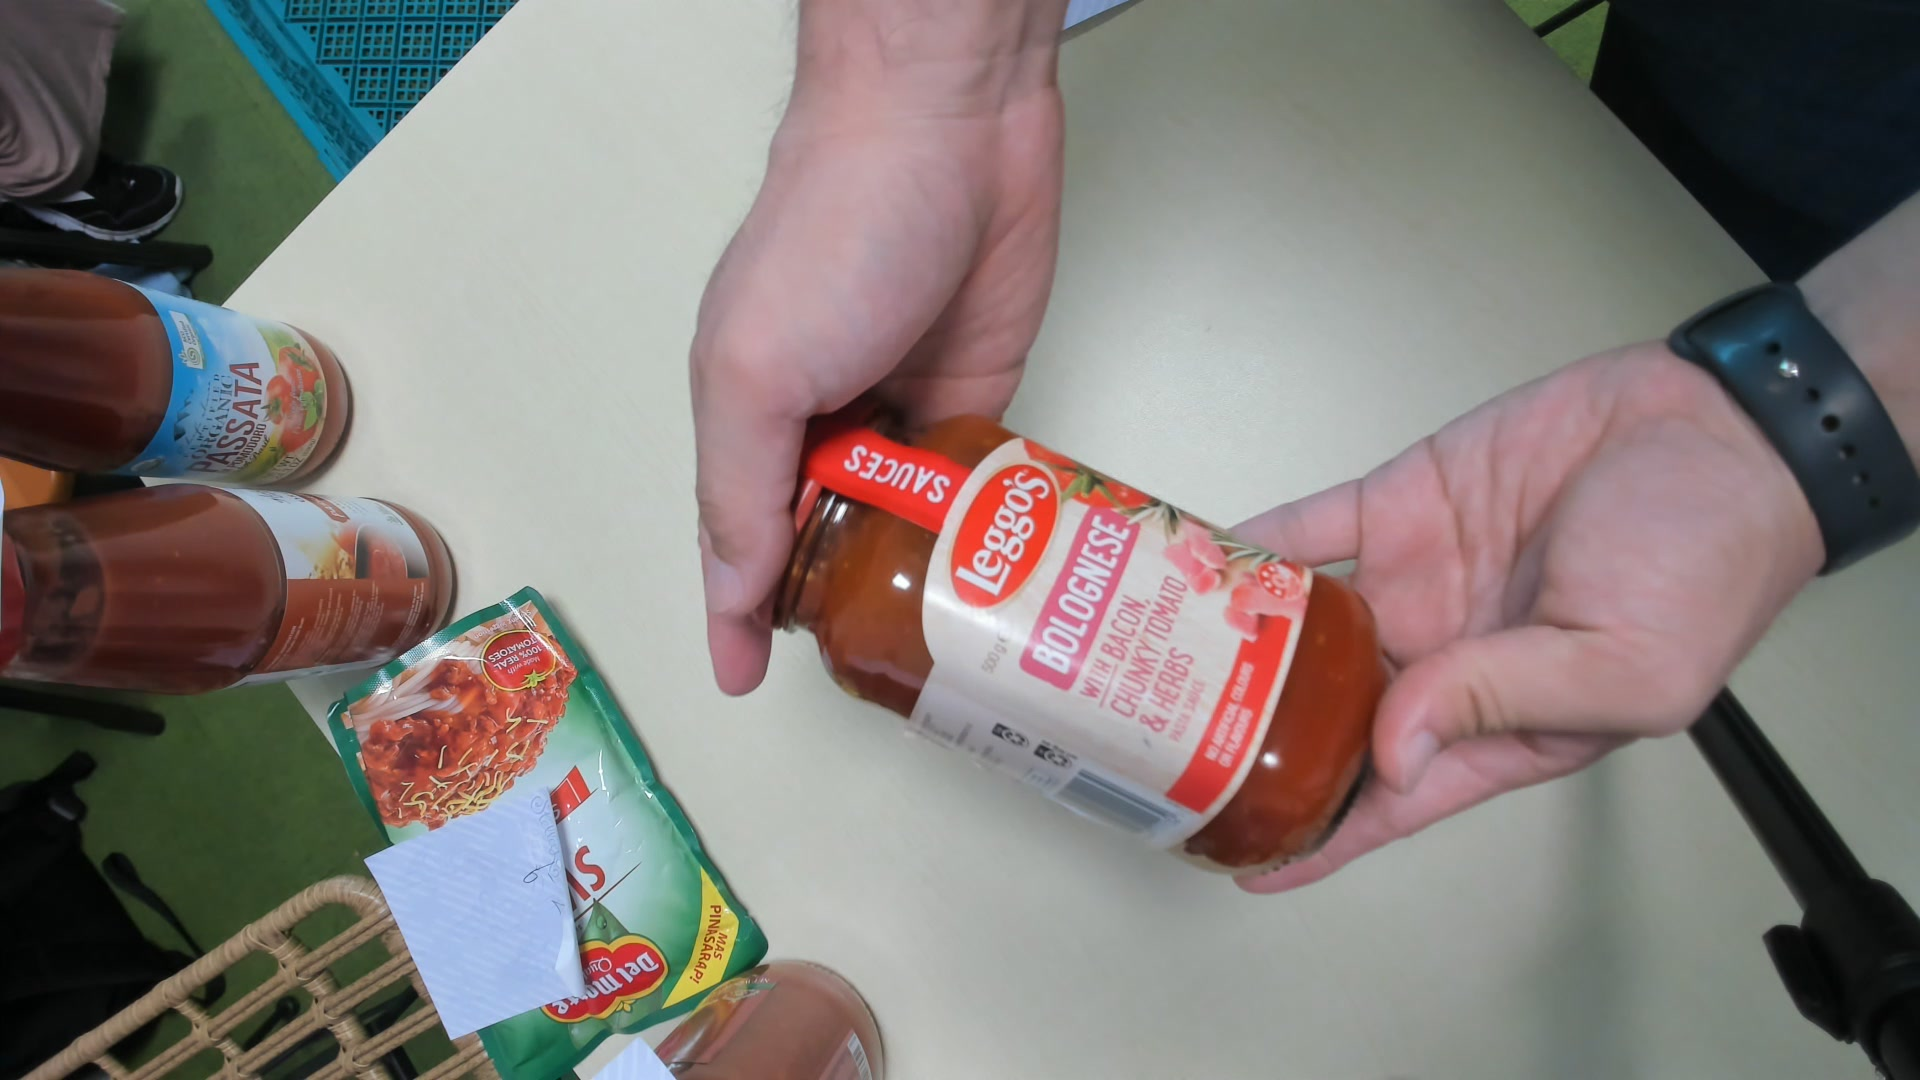PastaSauce_500-599g_Halal_NonHealthy: (756, 400, 1389, 868)
